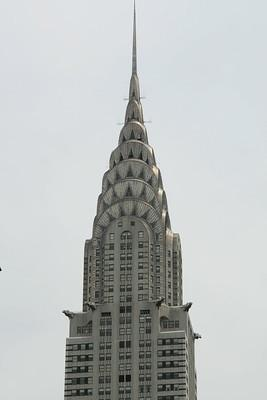building: (61, 107, 202, 400)
